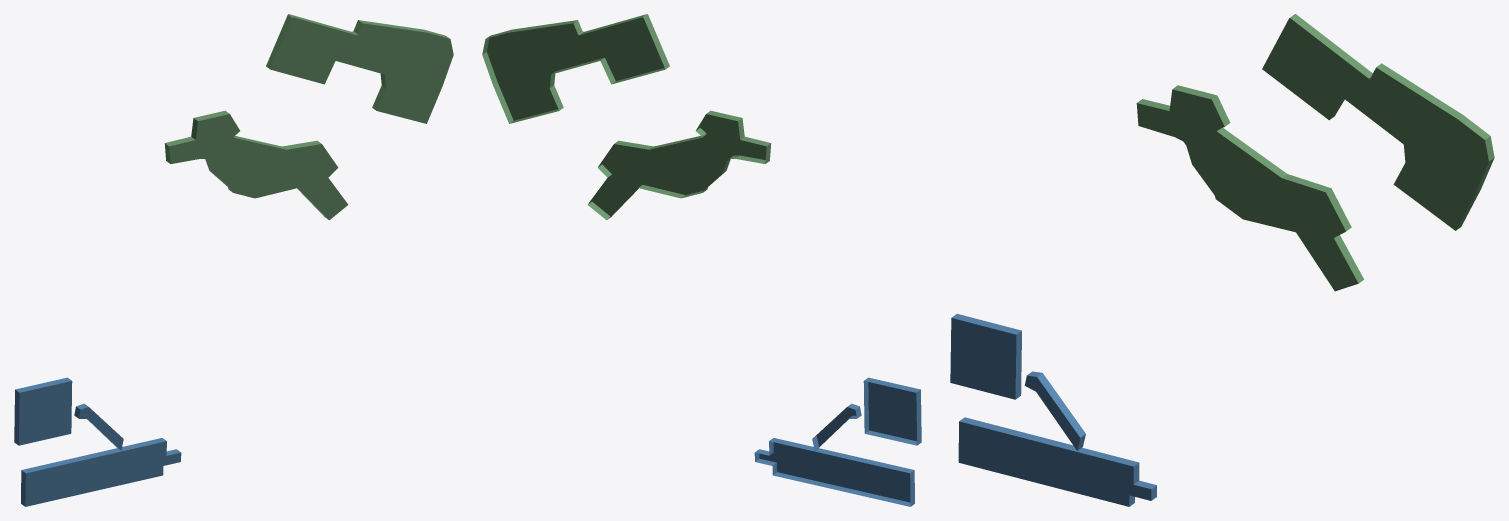
Rendered from buildings_k05.obj.
3 views of the same model, side by side, from view 1: azimuth 30°, elevation 25°; view 2: azimuth 150°, elevation 25°; view 3: azimuth 330°, elevation 25° (orthographic). The views are drawn at different scales.
Parts seen in each view (by area): view 1: roof3, roof4, zone3, zone4; view 2: roof3, roof4, zone3, zone4; view 3: roof3, roof4, zone3, zone4.
Part boxes in pixels (<box>): roof3: <box>169,17,453,220</box>; roof4: <box>18,381,181,506</box>; zone3: <box>164,14,449,219</box>; zone4: <box>14,377,180,506</box>; roof3: <box>487,17,766,216</box>; roof4: <box>759,382,916,502</box>; zone3: <box>482,14,771,220</box>; zone4: <box>754,377,921,506</box>; roof3: <box>1136,18,1488,291</box>; roof4: <box>950,318,1151,506</box>; zone3: <box>1137,14,1494,283</box>; zone4: <box>951,313,1156,506</box>.
Bounding box in the file's own units: 238 × 223 × 4.33.
